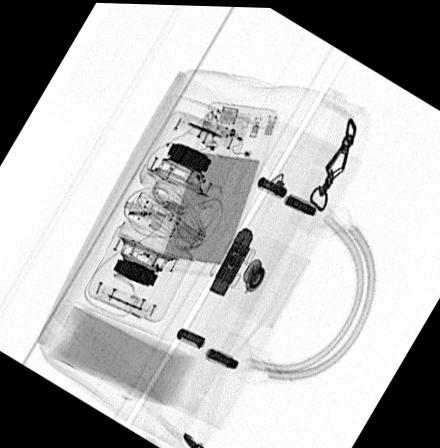Powerbank: (155, 98, 280, 275)
